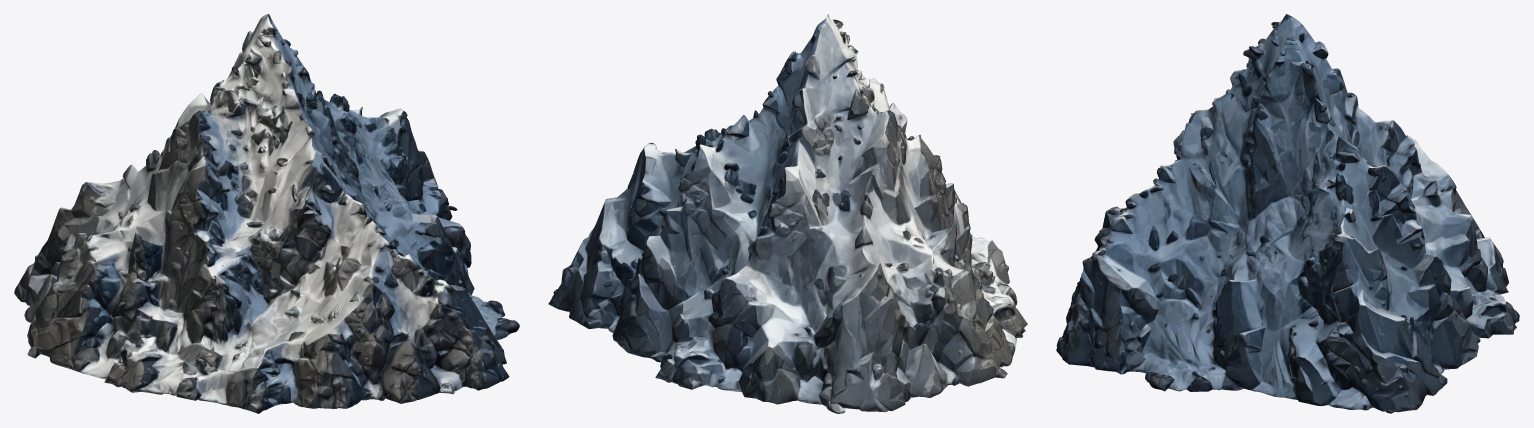
The model's file is alpine-peak.glb.
3 renders of one model, left to right at view 1: azimuth 30°, elevation 25°; view 2: azimuth 150°, elevation 25°; view 3: azimuth 270°, elevation 25°, orthographic. The views are drawn at different scales.
Visible parts, largest first — view 1: node_4ad2231c-4236-4007-b477-95594f576e03; view 2: node_4ad2231c-4236-4007-b477-95594f576e03; view 3: node_4ad2231c-4236-4007-b477-95594f576e03.
Part boxes in pixels (x1=…): node_4ad2231c-4236-4007-b477-95594f576e03: x1=14, y1=14, x2=519, y2=413; node_4ad2231c-4236-4007-b477-95594f576e03: x1=548, y1=14, x2=1027, y2=413; node_4ad2231c-4236-4007-b477-95594f576e03: x1=1056, y1=14, x2=1519, y2=413.
Size of the model in its own units: 0.9785 by 0.6502 by 0.9298.
1 material, 1 textured.
